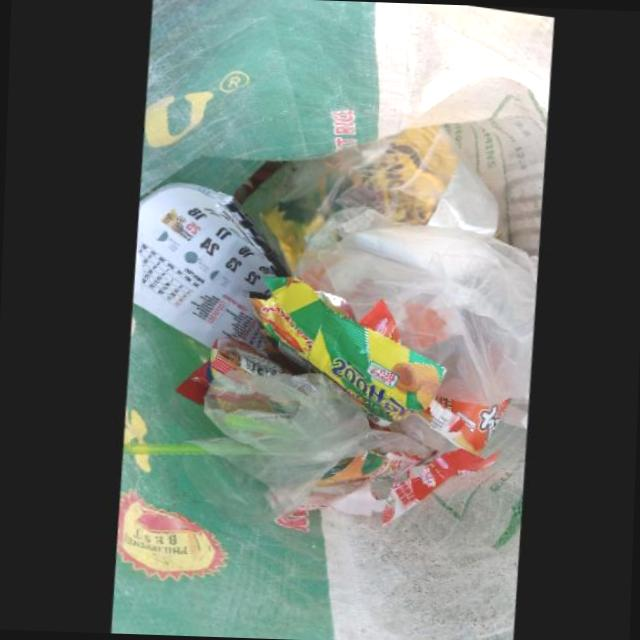bao_bi_thuc_pham: (243, 274, 440, 424), (373, 446, 493, 522), (167, 336, 276, 404), (408, 394, 504, 454)
giay: (127, 181, 282, 353)
ong_hut_nhua: (115, 441, 204, 453)
tui_ni_long: (295, 224, 533, 404), (185, 366, 424, 515)
